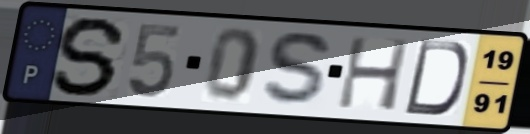0: (204, 25, 264, 106)
5: (125, 21, 184, 100)
D: (400, 37, 471, 119)
H: (334, 34, 414, 113)
S: (48, 14, 131, 99), (258, 29, 338, 110)
